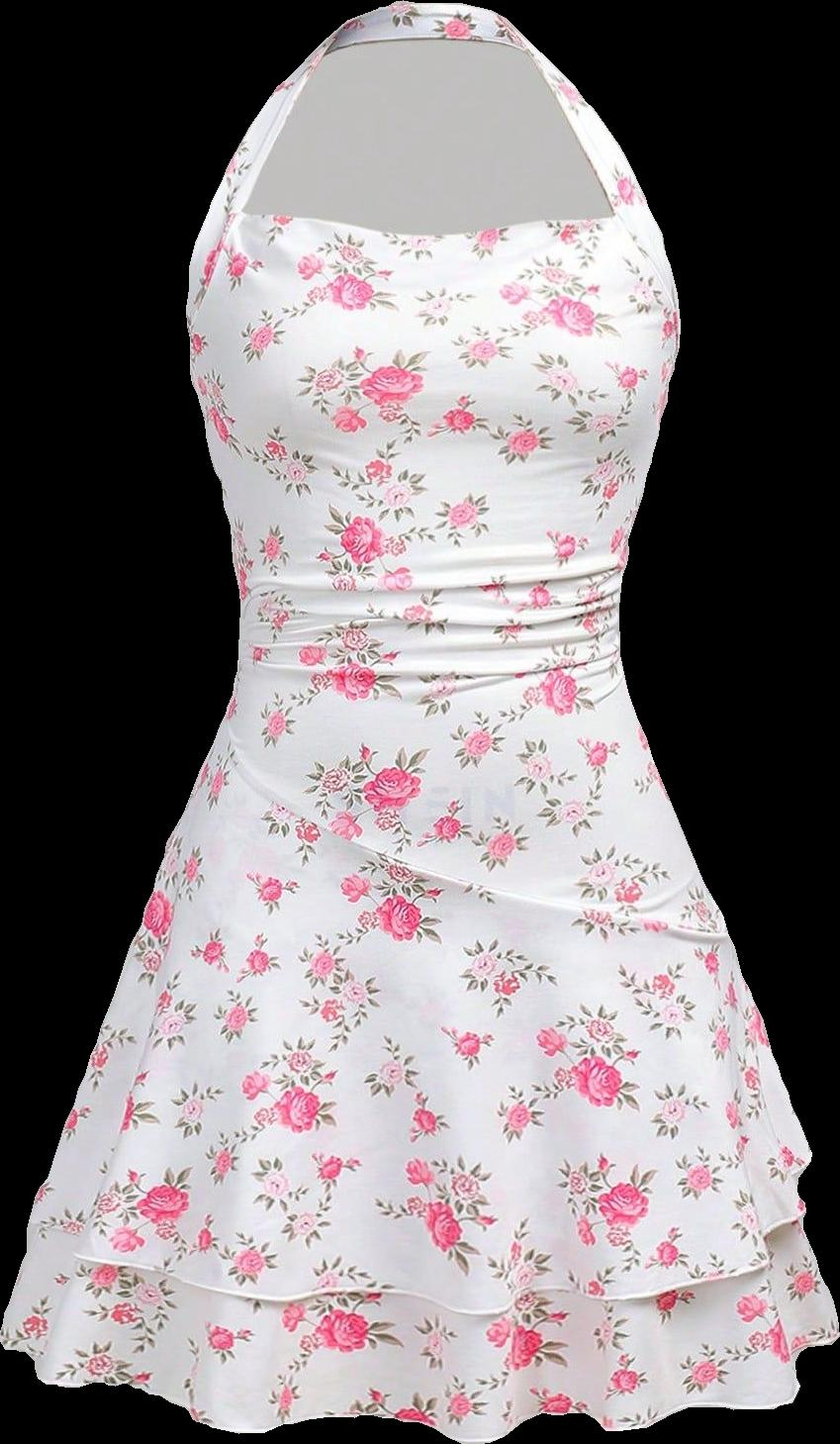Bodice: (186, 2, 680, 649)
Hemline: (0, 1325, 839, 1442), (21, 1204, 810, 1322)
Neckline: (233, 39, 620, 247)
Skirt: (0, 650, 839, 1443)
